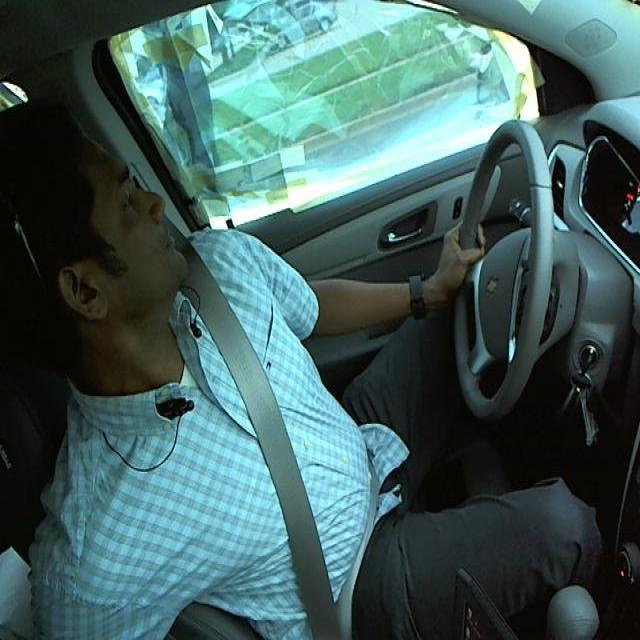seatbelt: (179, 286, 367, 630)
